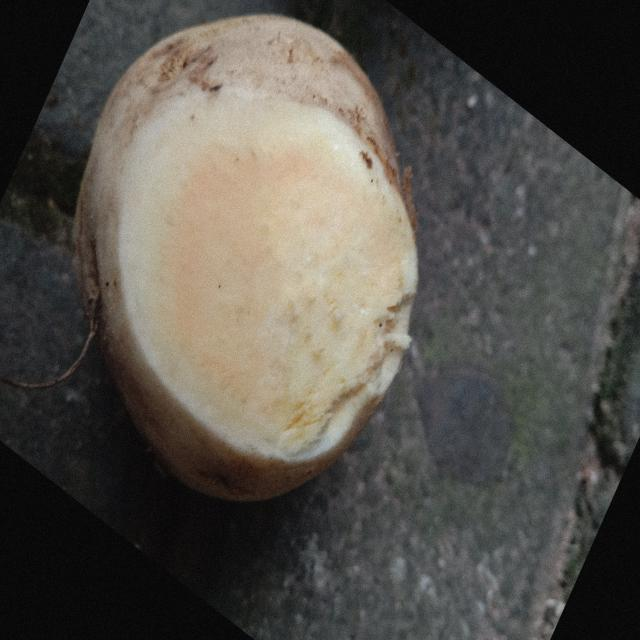Healthy Sweet Potato: (119, 95, 418, 458)
